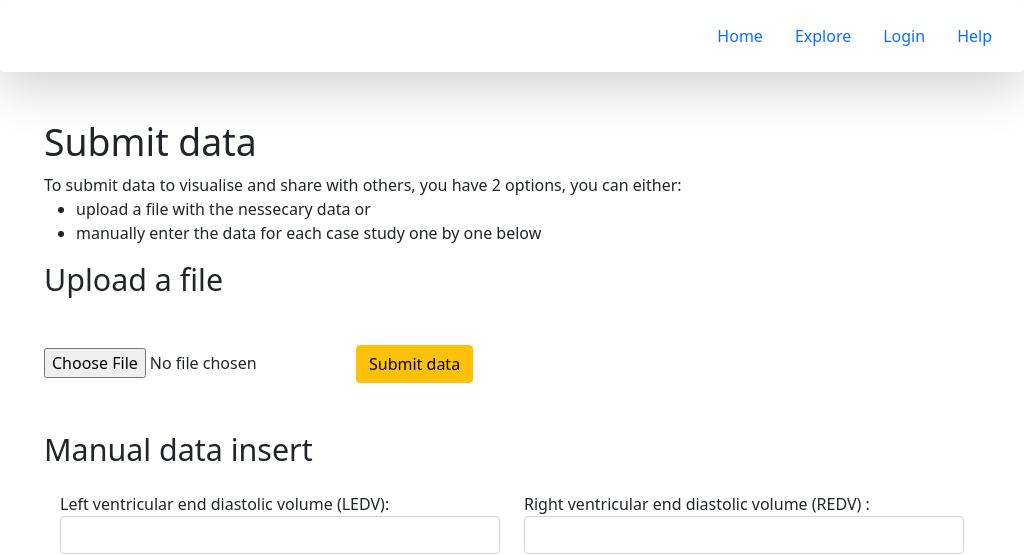
Test: SubmitData page appear › Check if user didn't upload file
Click the button with id "submit_data_upload" at (415, 364), box [356,345,473,383]
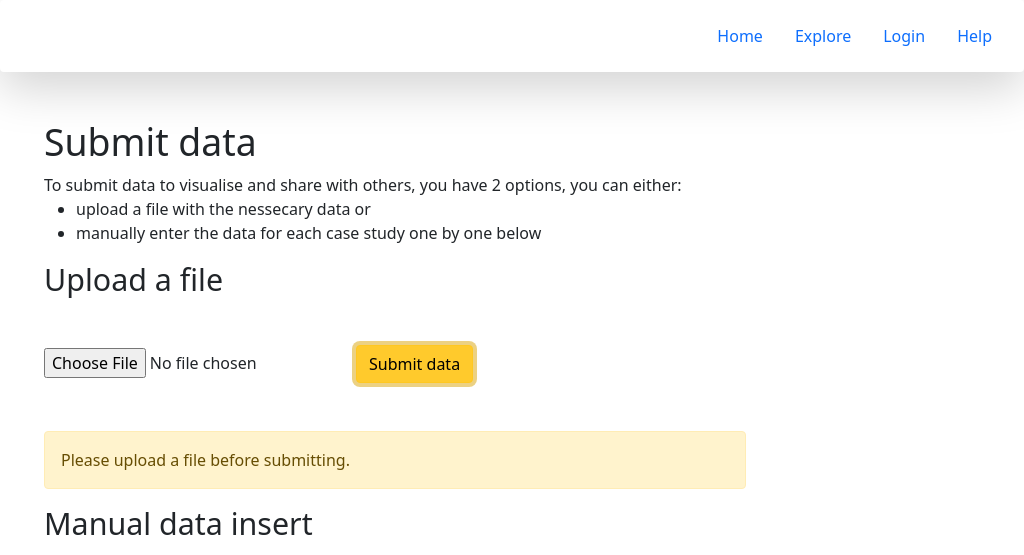
Expected: the message "Please upload a file before submitting." is shown, [44,431,746,489]
